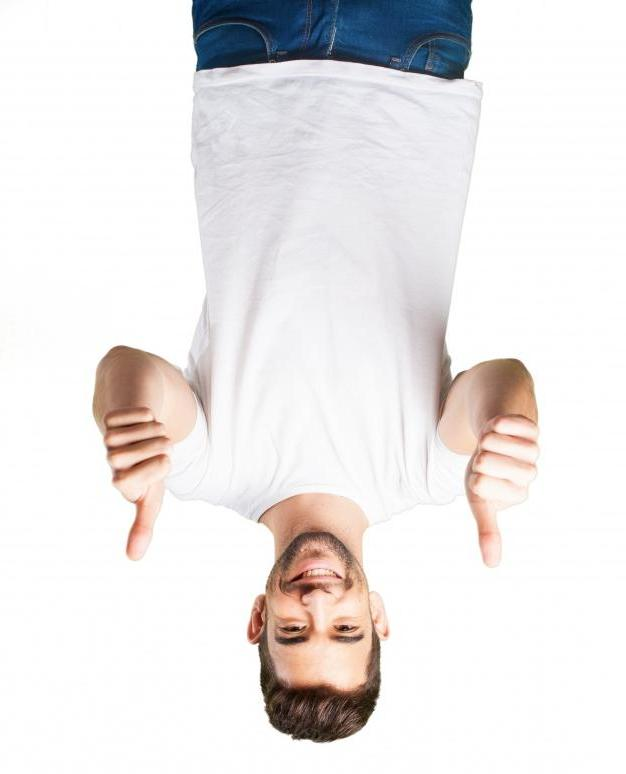thumbsdown: (467, 415, 540, 568), (103, 408, 172, 563)
